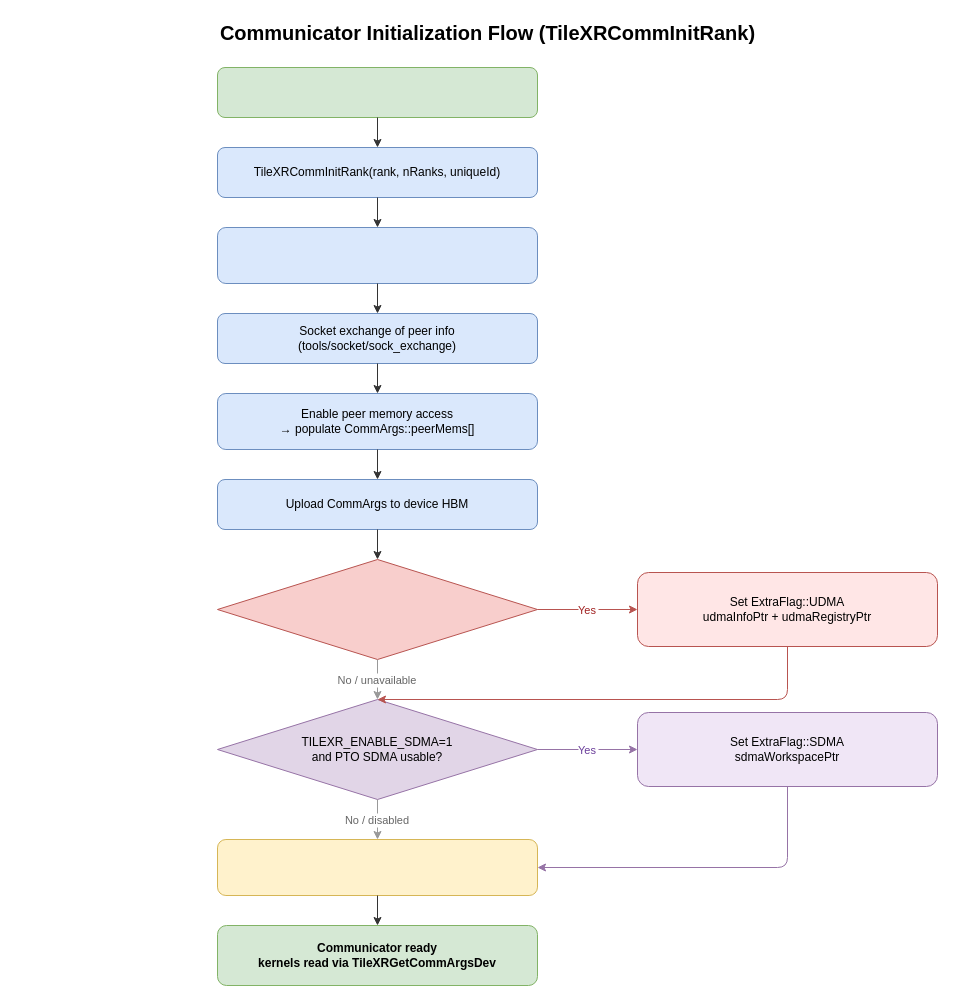
Image size: 974x1003. Some labels were removed from this diagram. Here are the shapes that lost their labels. From the top down, the centre of each, then its label:
At point 377,92: "TileXRGetUniqueId (root) → broadcast unique id to all ranks".
At point 377,255: "Allocate shared IPC buffers (~204 MB data + 4 MB flag space)".
At point 377,609: "UDMA available? (multi-rank: HCCP / RA init)".
At point 377,867: "Record topology / capability flags in CommArgs::extraFlag".
